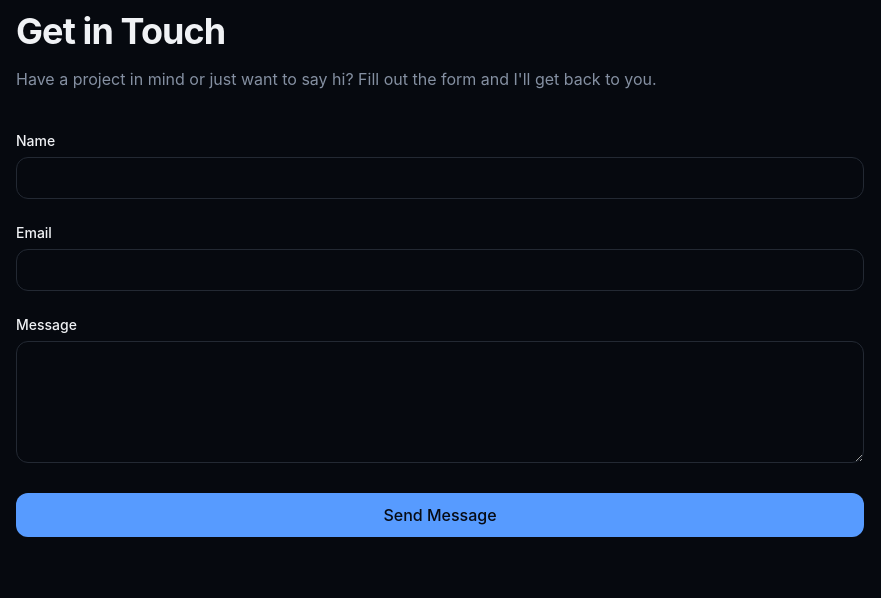
Test: Contact component › shows form-level error when Turnstile fails
This screenshot has width=881, height=598.
Click the button "Send Message".
click(440, 515)  # box [16,493,864,537]
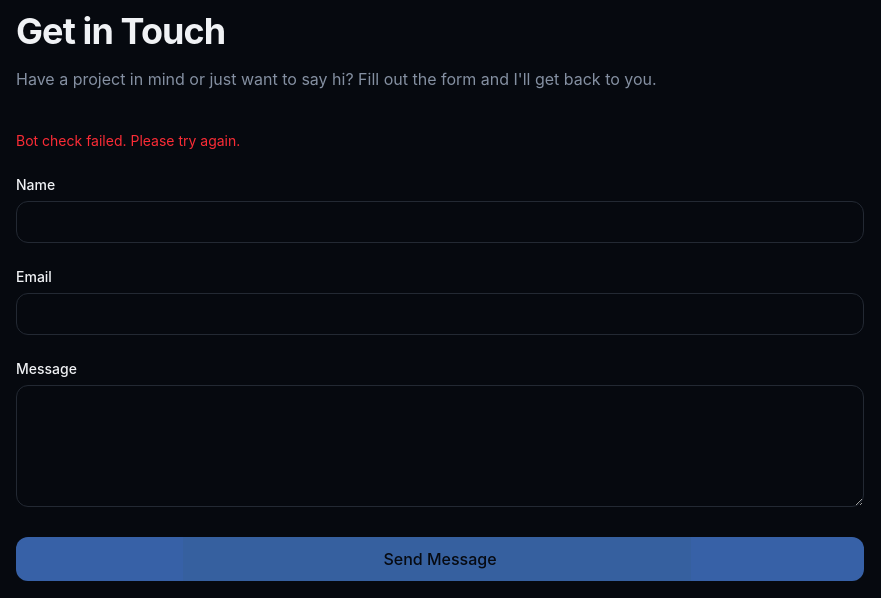
Expected: the message shows "Bot check failed", [16,132,240,149]
